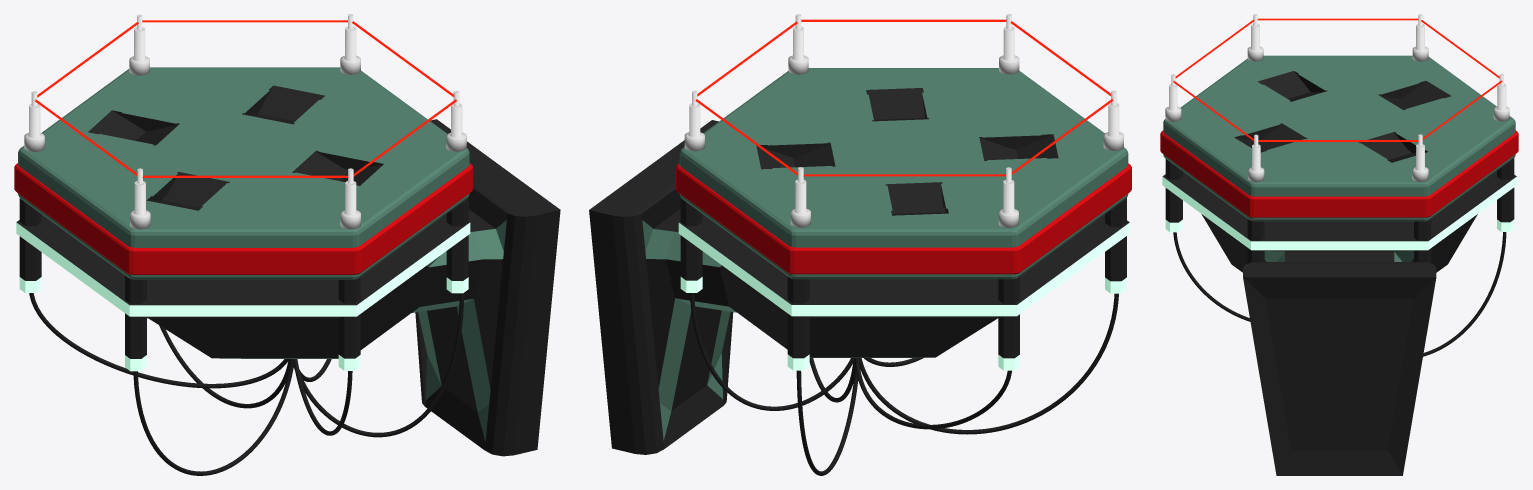
File: teleport_short_b.fbx
The picture shows the model from 3 angles, left to right: view 1: azimuth 30°, elevation 25°; view 2: azimuth 150°, elevation 25°; view 3: azimuth 270°, elevation 25°; orthographic projection. The views are drawn at different scales.
Visible parts, largest first — view 1: teleport_short_b; view 2: teleport_short_b; view 3: teleport_short_b.
Part boxes in pixels (<box>): teleport_short_b: <box>14,14,560,475</box>; teleport_short_b: <box>589,14,1131,475</box>; teleport_short_b: <box>1160,14,1518,475</box>.
Bounding box in the file's own units: 218 × 190 × 202.
